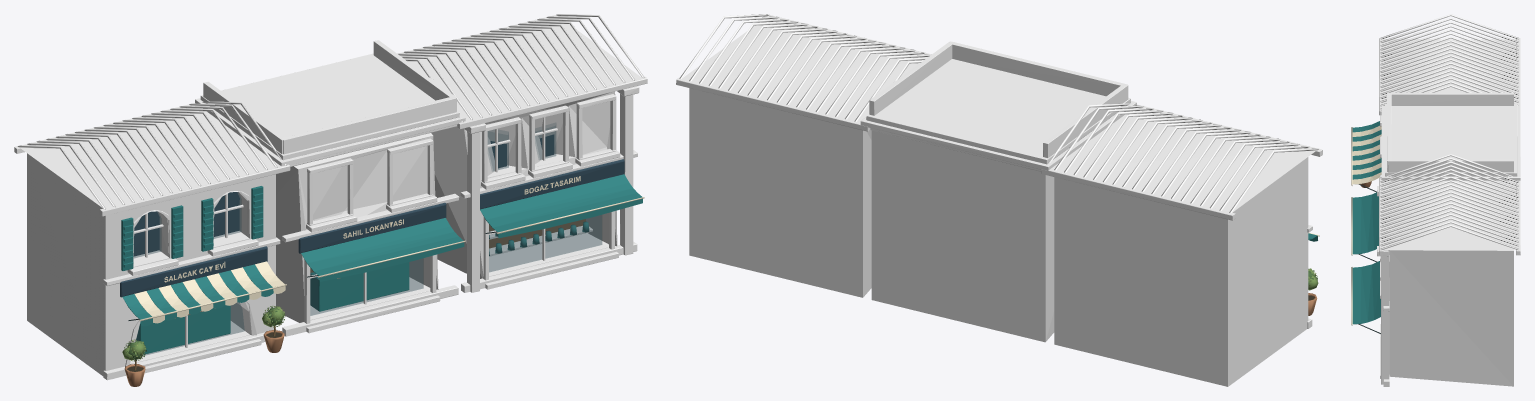
The model's file is DistrictBlock_7_1_LOD1.glb.
The picture shows the model from 3 angles, left to right: view 1: azimuth 30°, elevation 25°; view 2: azimuth 150°, elevation 25°; view 3: azimuth 270°, elevation 25°; orthographic projection. The views are drawn at different scales.
Visible parts, largest first — view 1: RK_DistrictBlock_7_1_LOD1_LC_Lime, RK_DistrictBlock_7_1_LOD1_LC_Tile, RK_DistrictBlock_7_1_LOD1_LC_Cream, RK_DistrictBlock_7_1_LOD1_LC_Teal, RK_DistrictBlock_7_1_LOD1_LC_Wood, RK_DistrictBlock_7_1_LOD1_LC_Coral, RK_DistrictBlock_7_1_LOD1_LC_Ink, RK_DistrictBlock_7_1_LOD1_LC_Glass, RK_DistrictBlock_7_1_LOD1_LC_Canvas, RK_DistrictBlock_7_1_LOD1_RK_Terracotta, RK_DistrictBlock_7_1_LOD1_RK_Leaf, RK_DistrictBlock_7_1_LOD1_LC_Interior; view 2: RK_DistrictBlock_7_1_LOD1_LC_Cream, RK_DistrictBlock_7_1_LOD1_LC_Coral, RK_DistrictBlock_7_1_LOD1_LC_Wood, RK_DistrictBlock_7_1_LOD1_LC_Tile, RK_DistrictBlock_7_1_LOD1_LC_Lime; view 3: RK_DistrictBlock_7_1_LOD1_LC_Tile, RK_DistrictBlock_7_1_LOD1_LC_Wood, RK_DistrictBlock_7_1_LOD1_LC_Lime, RK_DistrictBlock_7_1_LOD1_LC_Teal, RK_DistrictBlock_7_1_LOD1_LC_Coral, RK_DistrictBlock_7_1_LOD1_LC_Canvas.
Part boxes in pixels (bbox=[...]): RK_DistrictBlock_7_1_LOD1_LC_Lime: bbox=[103, 53, 639, 380]; RK_DistrictBlock_7_1_LOD1_LC_Tile: bbox=[17, 14, 644, 209]; RK_DistrictBlock_7_1_LOD1_LC_Cream: bbox=[27, 153, 275, 375]; RK_DistrictBlock_7_1_LOD1_LC_Teal: bbox=[121, 174, 642, 354]; RK_DistrictBlock_7_1_LOD1_LC_Wood: bbox=[14, 15, 647, 364]; RK_DistrictBlock_7_1_LOD1_LC_Coral: bbox=[203, 40, 456, 322]; RK_DistrictBlock_7_1_LOD1_LC_Ink: bbox=[120, 134, 624, 297]; RK_DistrictBlock_7_1_LOD1_LC_Glass: bbox=[134, 123, 601, 355]; RK_DistrictBlock_7_1_LOD1_LC_Canvas: bbox=[134, 176, 644, 323]; RK_DistrictBlock_7_1_LOD1_RK_Terracotta: bbox=[124, 330, 284, 386]; RK_DistrictBlock_7_1_LOD1_RK_Leaf: bbox=[122, 306, 285, 361]; RK_DistrictBlock_7_1_LOD1_LC_Interior: bbox=[310, 219, 585, 272]; RK_DistrictBlock_7_1_LOD1_LC_Cream: bbox=[1054, 157, 1308, 386]; RK_DistrictBlock_7_1_LOD1_LC_Coral: bbox=[869, 41, 1128, 342]; RK_DistrictBlock_7_1_LOD1_LC_Wood: bbox=[676, 15, 1322, 297]; RK_DistrictBlock_7_1_LOD1_LC_Tile: bbox=[679, 14, 1319, 213]; RK_DistrictBlock_7_1_LOD1_LC_Lime: bbox=[860, 59, 1312, 328]; RK_DistrictBlock_7_1_LOD1_LC_Tile: bbox=[1380, 14, 1518, 249]; RK_DistrictBlock_7_1_LOD1_LC_Wood: bbox=[1379, 38, 1520, 386]; RK_DistrictBlock_7_1_LOD1_LC_Lime: bbox=[1377, 103, 1520, 386]; RK_DistrictBlock_7_1_LOD1_LC_Teal: bbox=[1352, 121, 1381, 324]; RK_DistrictBlock_7_1_LOD1_LC_Coral: bbox=[1387, 92, 1513, 172]; RK_DistrictBlock_7_1_LOD1_LC_Canvas: bbox=[1351, 125, 1381, 325].
Bounding box in the file's own units: 19.22 × 6.89 × 6.45.
